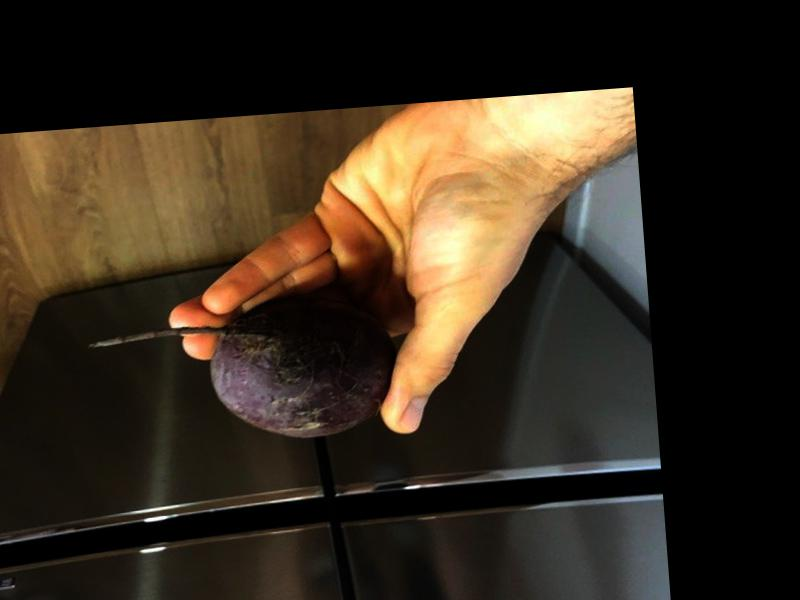Beet: (85, 291, 399, 454)
